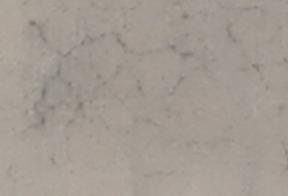fissura: (12, 13, 211, 128)
